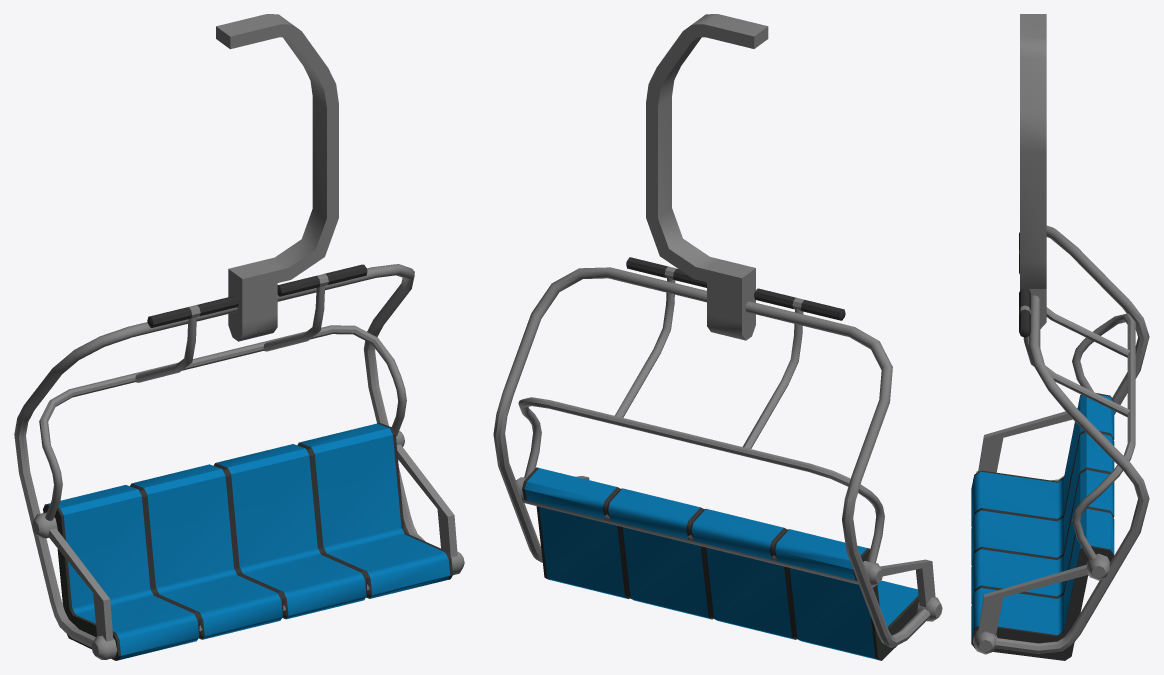
Rendered from chairlift-cabin.glb.
3 views of the same model, side by side, from view 1: azimuth 30°, elevation 25°; view 2: azimuth 150°, elevation 25°; view 3: azimuth 270°, elevation 25° (orthographic). The views are drawn at different scales.
Visible parts, largest first — view 1: chairlift-cabin; view 2: chairlift-cabin; view 3: chairlift-cabin.
Boxes of the visible parts, x1,y1,x2,y2 form: chairlift-cabin: (14,14,464,660); chairlift-cabin: (493,14,942,660); chairlift-cabin: (971,14,1149,660).
Size of the model in its own units: 84.53 by 129 by 37.61.
1 material, 1 textured.
